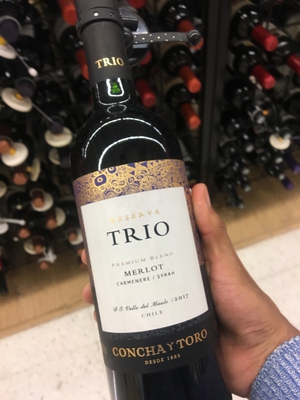trio merlot: (55, 28, 227, 400)
